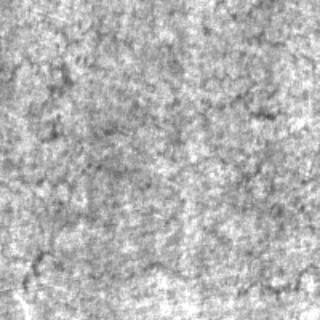crazing: (10, 144, 306, 292), (6, 7, 310, 141)
